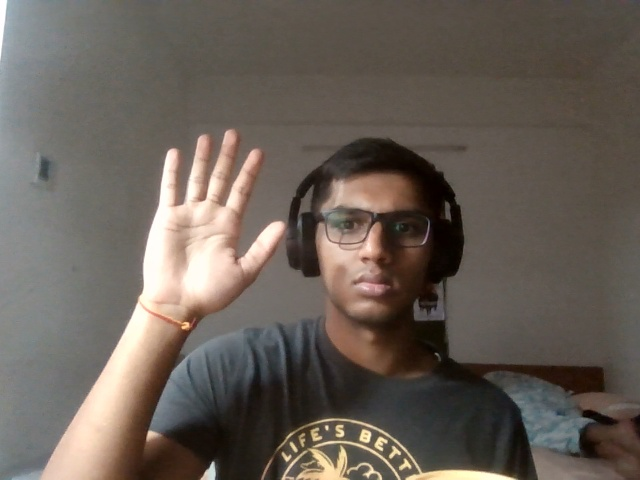hello: (133, 114, 288, 328)
